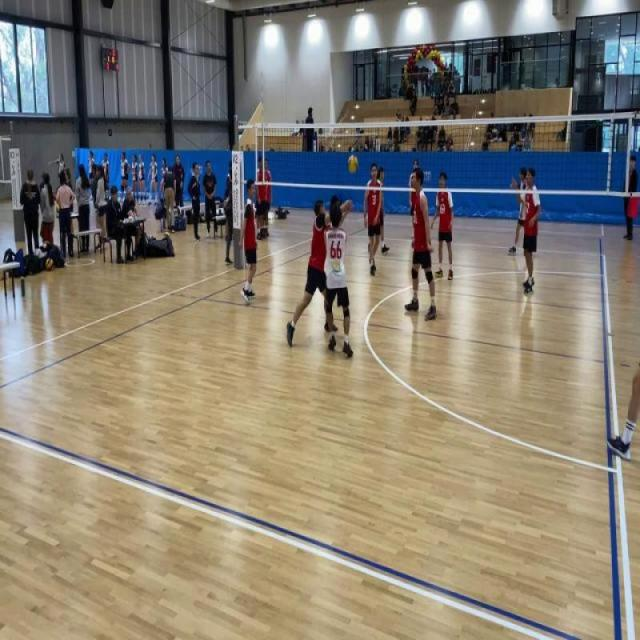volleyball: (347, 153, 359, 174), (45, 256, 54, 271), (147, 234, 154, 242), (163, 231, 170, 238), (56, 203, 60, 214)
